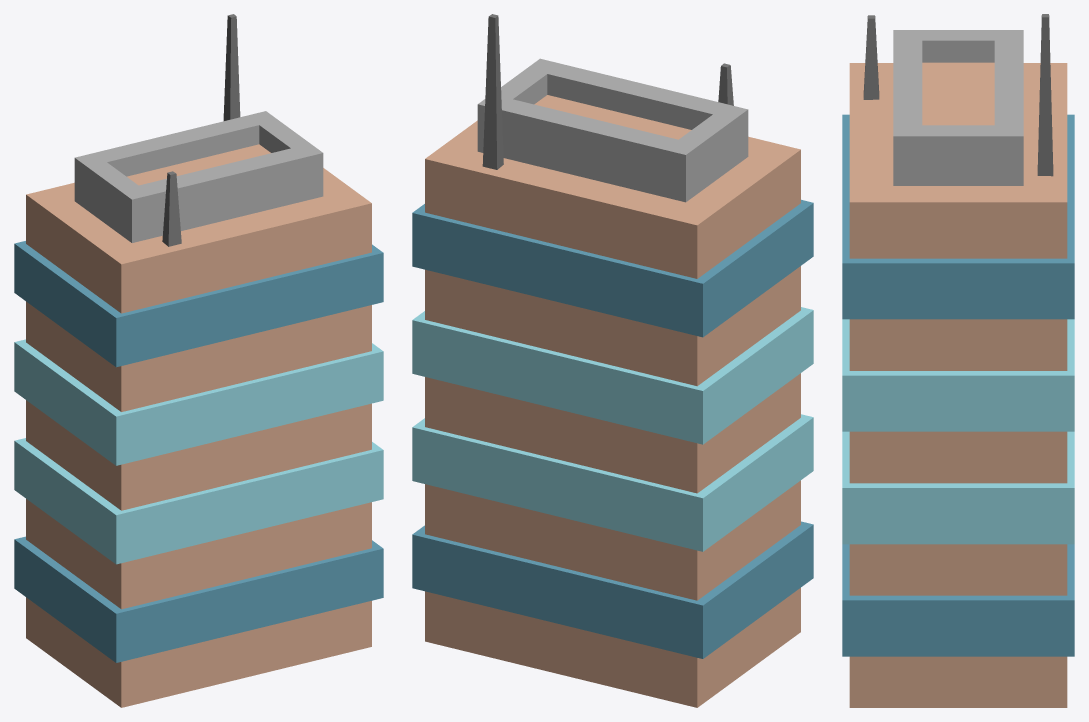
Rendered from BigHouse 1.1.fbx.
3 renders of one model, left to right at view 1: azimuth 30°, elevation 25°; view 2: azimuth 150°, elevation 25°; view 3: azimuth 270°, elevation 25°, orthographic. The views are drawn at different scales.
Parts seen in each view (by area): view 1: BigHouse_Type1_1; view 2: BigHouse_Type1_1; view 3: BigHouse_Type1_1.
Boxes of the visible parts, x1=… form: BigHouse_Type1_1: x1=14, y1=14, x2=383, y2=707; BigHouse_Type1_1: x1=412, y1=14, x2=813, y2=707; BigHouse_Type1_1: x1=842, y1=14, x2=1074, y2=707.
Bounding box in the file's own units: 577 × 1198 × 380.
